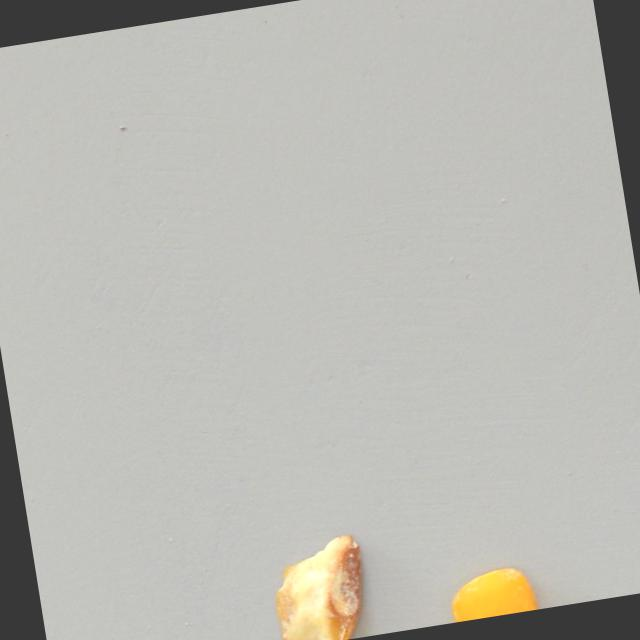dañado: (261, 529, 376, 640)
pelicula: (443, 556, 547, 623)
